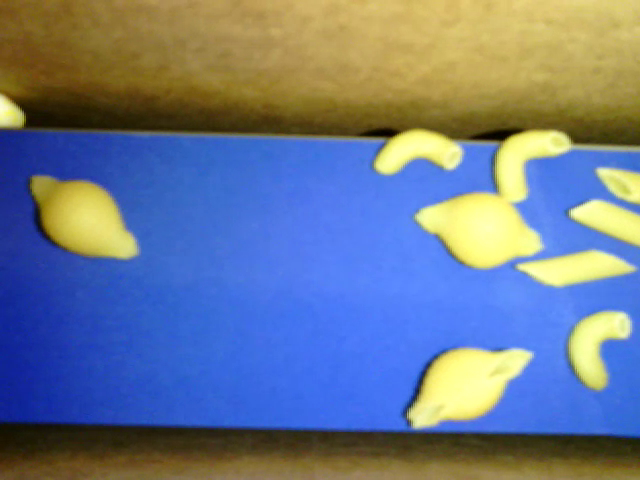elbow: (493, 129, 574, 203), (568, 311, 632, 391), (372, 128, 465, 175)
penne: (516, 249, 638, 289), (568, 198, 639, 245), (593, 166, 639, 203)
shell: (404, 344, 535, 431), (412, 191, 545, 270), (29, 174, 138, 259)
